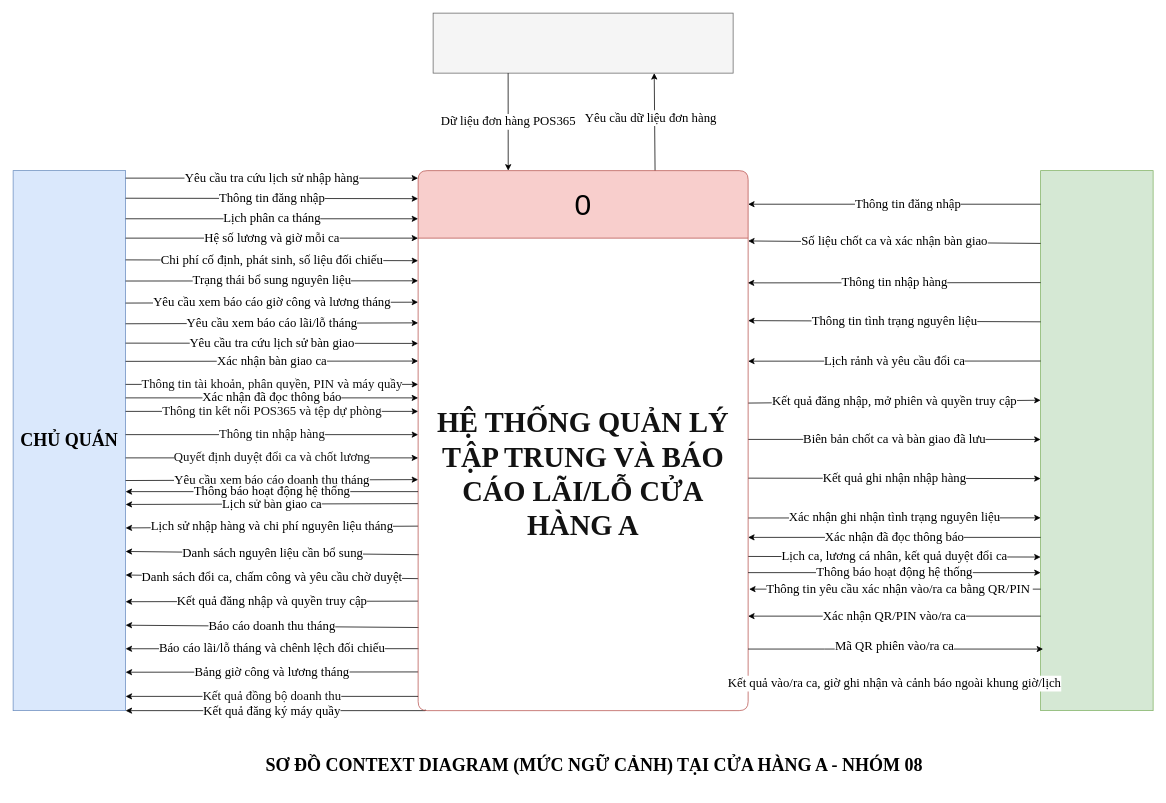
This 1166x803 diagram has some shape labels left out. Each missing label, with the centre of its shape:
"HỆ THỐNG POS365" goes at [582,42].
"NHÂN VIÊN" goes at [1096,440].
